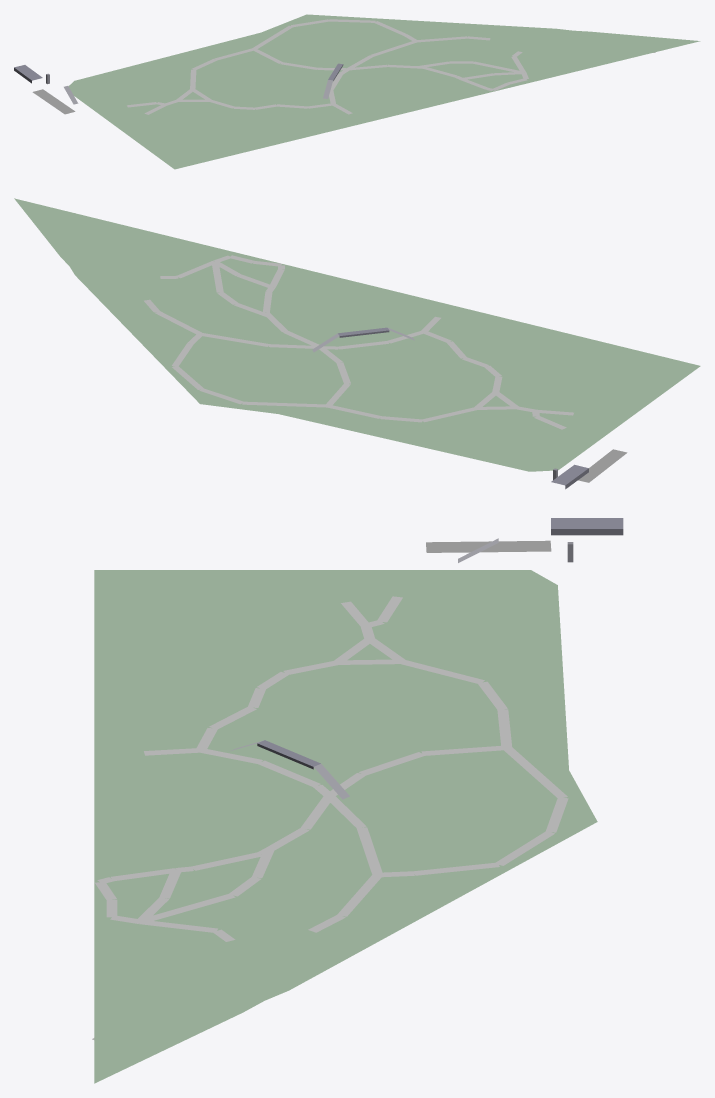
The picture shows the model from 3 angles, top to bottom: view 1: azimuth 30°, elevation 25°; view 2: azimuth 150°, elevation 25°; view 3: azimuth 270°, elevation 25°; orthographic projection. The views are drawn at different scales.
Bounding box in the file's own units: 352 × 7.55 × 146.
